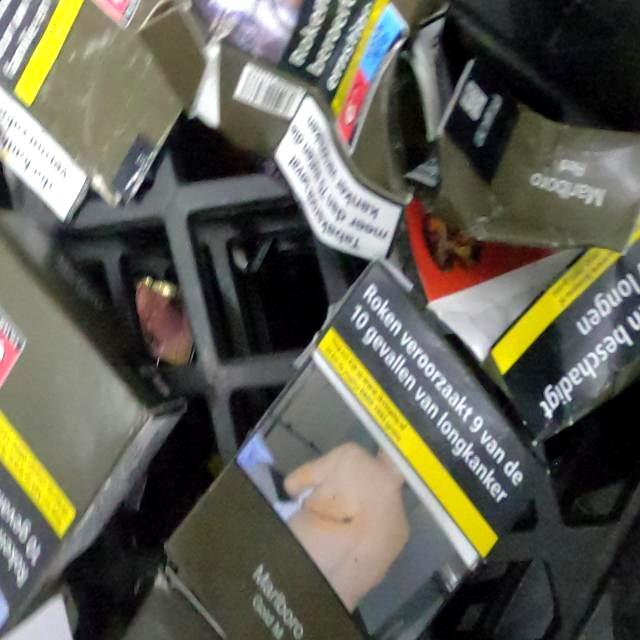Paper: (160, 256, 546, 640), (386, 0, 640, 450), (0, 200, 190, 639), (136, 0, 406, 266), (0, 0, 184, 226)
